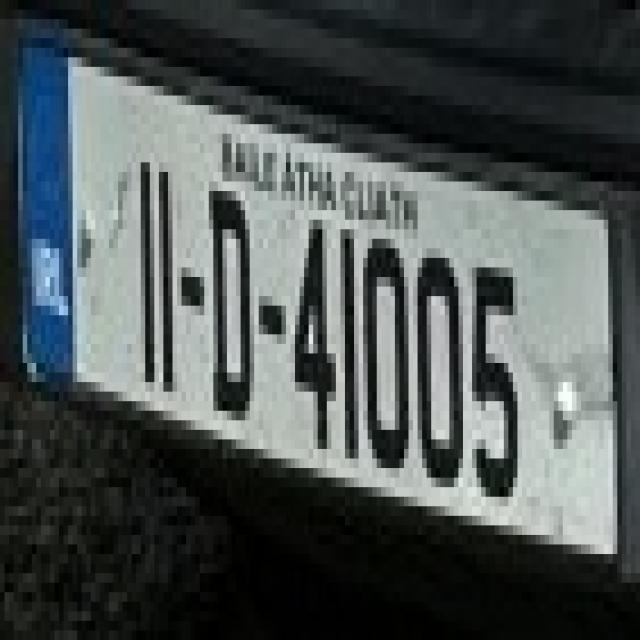0: (345, 210, 418, 468), (404, 220, 467, 468)
1: (104, 124, 168, 382)
4: (276, 182, 341, 440)
5: (454, 229, 522, 487)
D: (195, 162, 259, 411)
